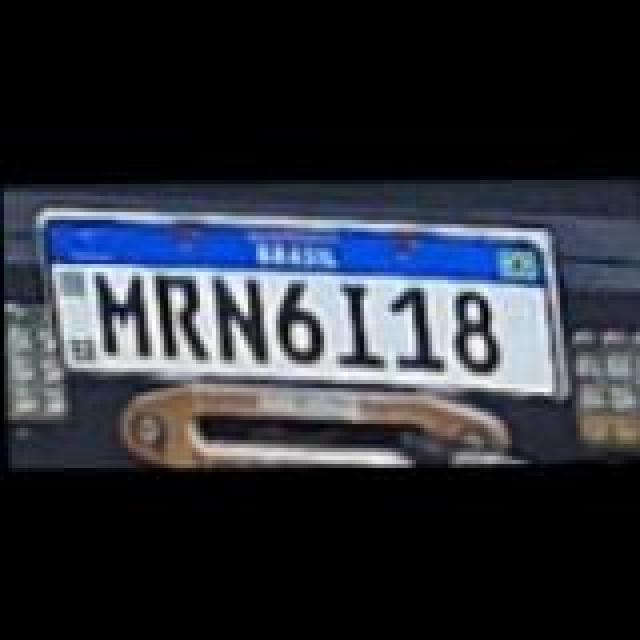1: (390, 282, 442, 366)
6: (274, 276, 326, 360)
8: (456, 286, 504, 370)
I: (336, 278, 384, 366)
M: (96, 268, 152, 356)
N: (216, 276, 272, 364)
R: (156, 272, 212, 360)
